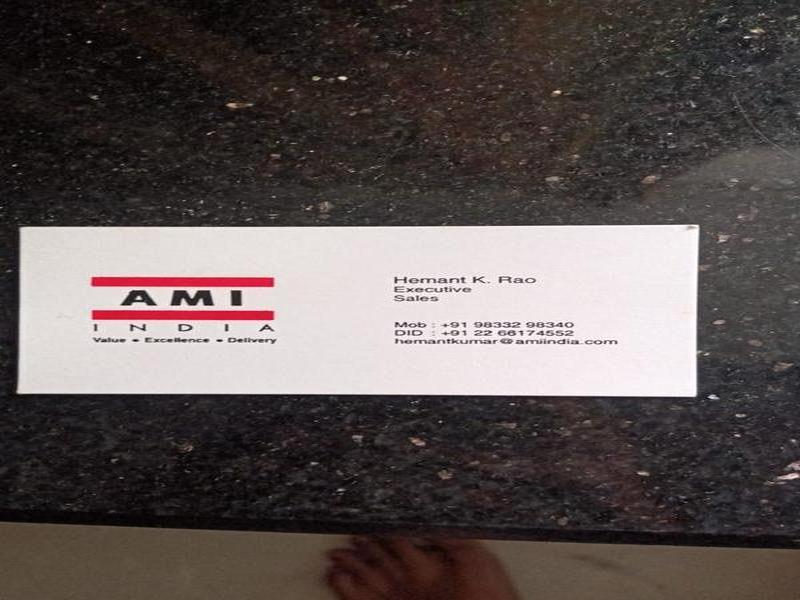card: (17, 223, 702, 403)
